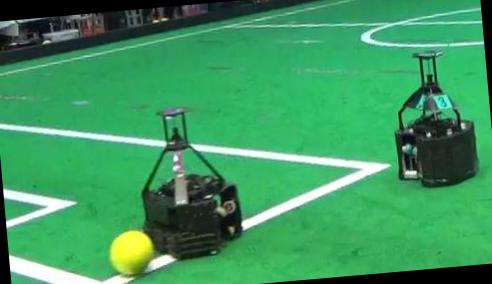ball: (109, 229, 153, 274)
robot: (142, 109, 240, 258), (396, 50, 477, 185)
